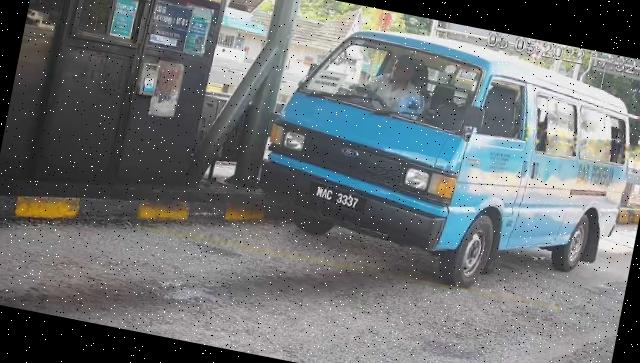License_Plate: (306, 179, 369, 217)
van: (246, 9, 640, 315)
